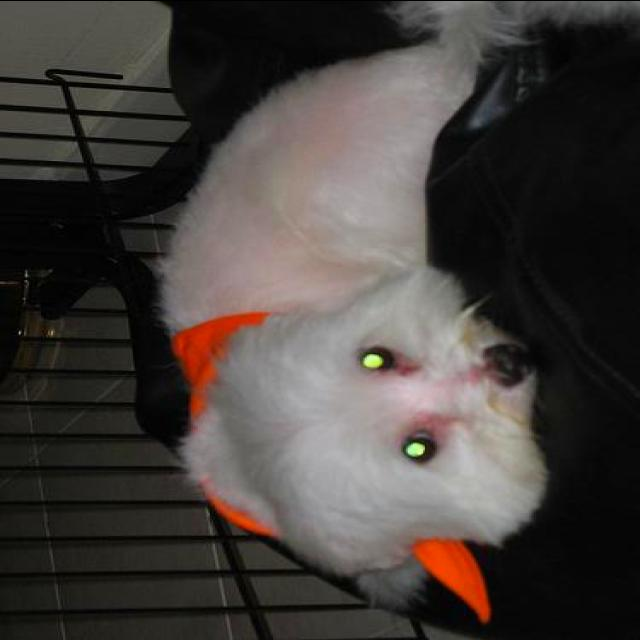maltese_dog: (155, 0, 551, 605)
